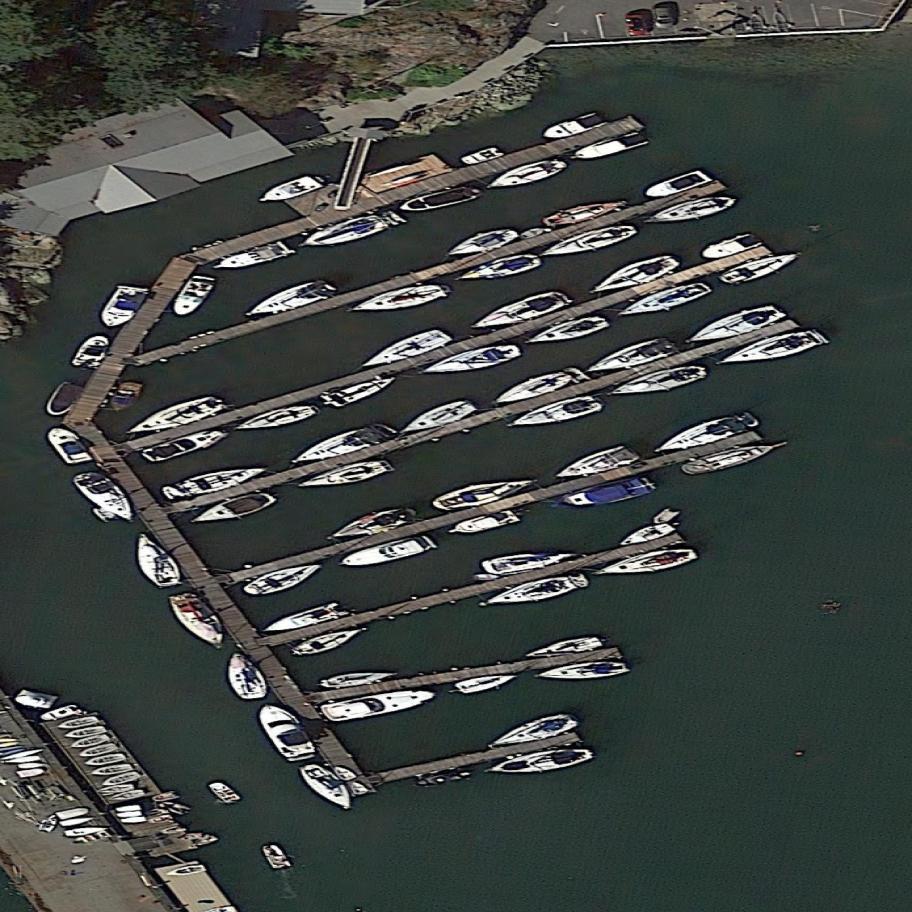ship: (116, 518, 193, 604), (248, 688, 323, 775), (291, 203, 411, 256), (645, 408, 766, 460), (160, 577, 236, 659), (463, 285, 576, 340), (473, 566, 598, 615), (114, 391, 228, 444), (282, 418, 398, 470), (67, 458, 142, 536), (679, 299, 790, 350), (714, 325, 831, 373), (533, 217, 644, 267), (291, 750, 366, 823), (581, 251, 685, 303), (156, 459, 272, 505), (678, 434, 794, 479), (428, 470, 539, 517), (488, 361, 592, 411), (502, 389, 610, 436), (577, 333, 680, 382), (237, 275, 341, 323), (353, 325, 456, 373), (613, 276, 717, 323), (319, 684, 440, 724), (319, 502, 426, 547), (292, 452, 399, 497), (600, 360, 711, 403), (418, 339, 529, 381), (87, 271, 152, 342), (553, 472, 660, 515), (591, 542, 702, 583), (184, 485, 285, 530), (482, 741, 598, 780), (479, 709, 584, 752), (475, 153, 574, 198), (716, 243, 808, 291), (547, 440, 643, 485), (236, 558, 334, 602), (136, 424, 233, 468), (333, 532, 437, 573), (520, 308, 613, 353), (393, 394, 483, 439), (256, 597, 352, 639), (230, 396, 324, 438), (537, 192, 633, 233), (450, 247, 545, 288), (37, 415, 97, 478), (345, 282, 450, 318), (642, 191, 742, 228), (164, 264, 220, 330), (436, 222, 524, 264), (285, 620, 377, 660), (219, 642, 272, 708), (320, 371, 405, 412), (210, 237, 297, 277), (482, 543, 580, 576), (37, 369, 89, 426), (570, 129, 652, 165), (249, 171, 324, 210), (395, 184, 483, 215), (535, 109, 610, 145), (639, 167, 714, 203), (693, 230, 765, 266), (67, 324, 114, 379), (533, 658, 632, 684), (446, 507, 524, 539), (314, 665, 403, 693), (520, 635, 607, 663), (451, 669, 524, 698), (613, 519, 677, 551), (105, 372, 144, 420), (203, 772, 246, 812), (257, 836, 293, 876), (458, 144, 508, 169), (35, 702, 84, 725), (98, 766, 144, 790), (649, 501, 682, 531), (75, 741, 122, 761), (81, 750, 130, 769), (62, 723, 110, 742), (68, 732, 113, 752), (329, 759, 360, 787), (156, 797, 194, 819), (55, 714, 101, 732), (108, 786, 150, 805), (91, 761, 135, 777), (165, 863, 207, 879), (63, 824, 109, 838), (96, 781, 136, 797), (1, 747, 46, 761), (55, 805, 93, 821), (517, 226, 549, 243), (59, 814, 97, 828), (150, 789, 181, 805), (35, 816, 58, 835), (16, 766, 47, 779), (145, 812, 175, 825), (157, 824, 189, 836), (3, 755, 41, 765), (348, 780, 371, 796), (119, 815, 147, 825), (114, 804, 142, 813), (117, 810, 143, 819), (18, 762, 47, 769), (472, 574, 500, 581)
small-vehicle: (627, 9, 652, 39), (653, 3, 677, 28)
